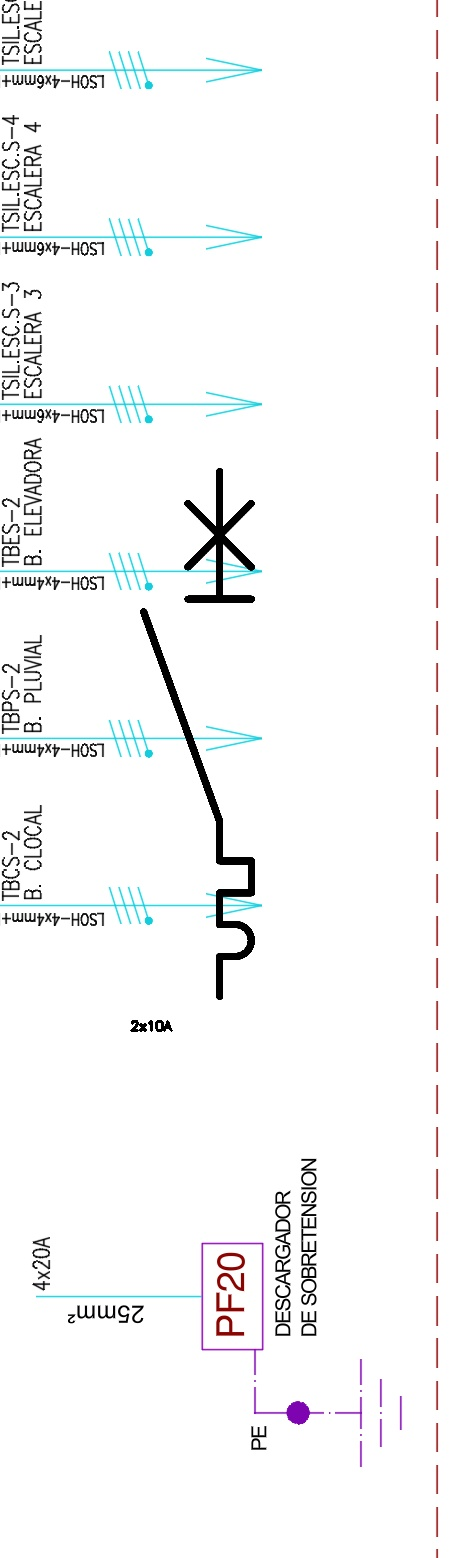interruptor_termomagnetico: (130, 458, 265, 1010)
